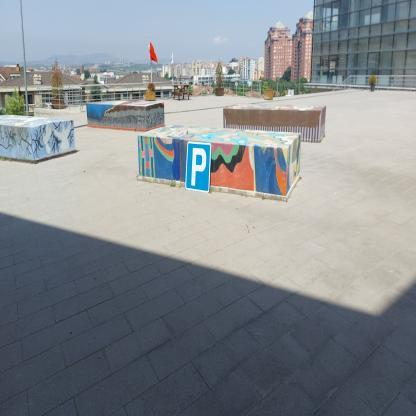parking: (185, 141, 212, 193)
